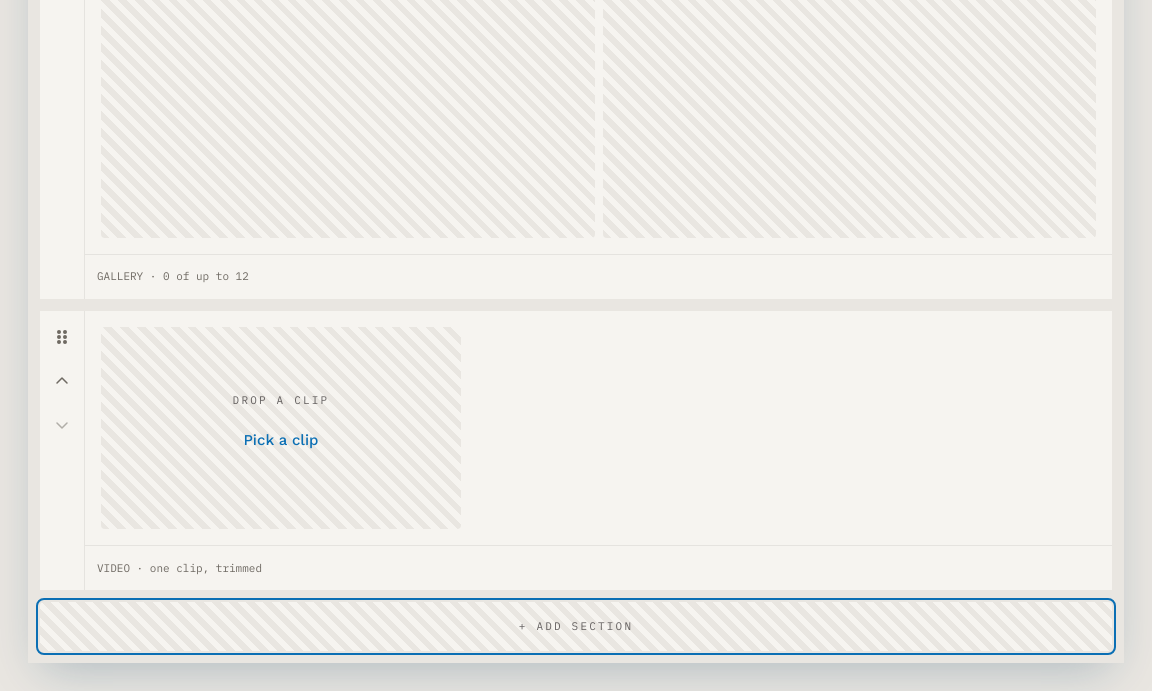
Test: SectionPicker › Enter on an option adds exactly one block of that type at the end and focuses it
The image size is (1152, 691).
(page scrolled)
Press Enter
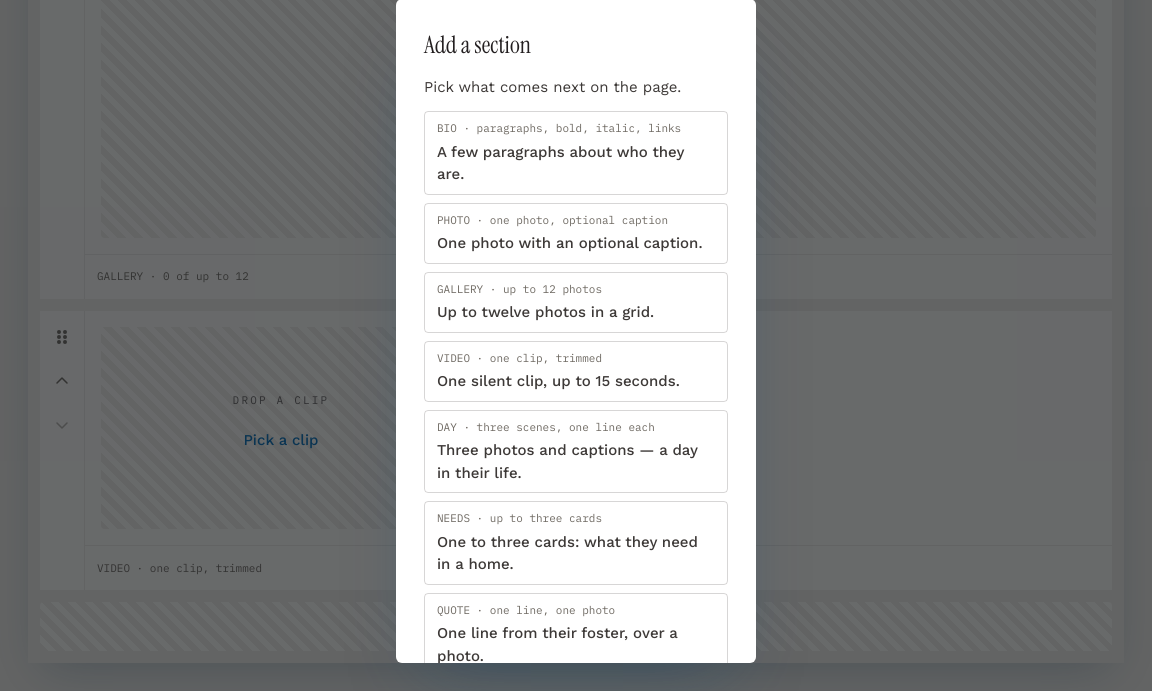
Click the button "QUOTE": (576, 635) [424,593,728,676]
(page scrolled)
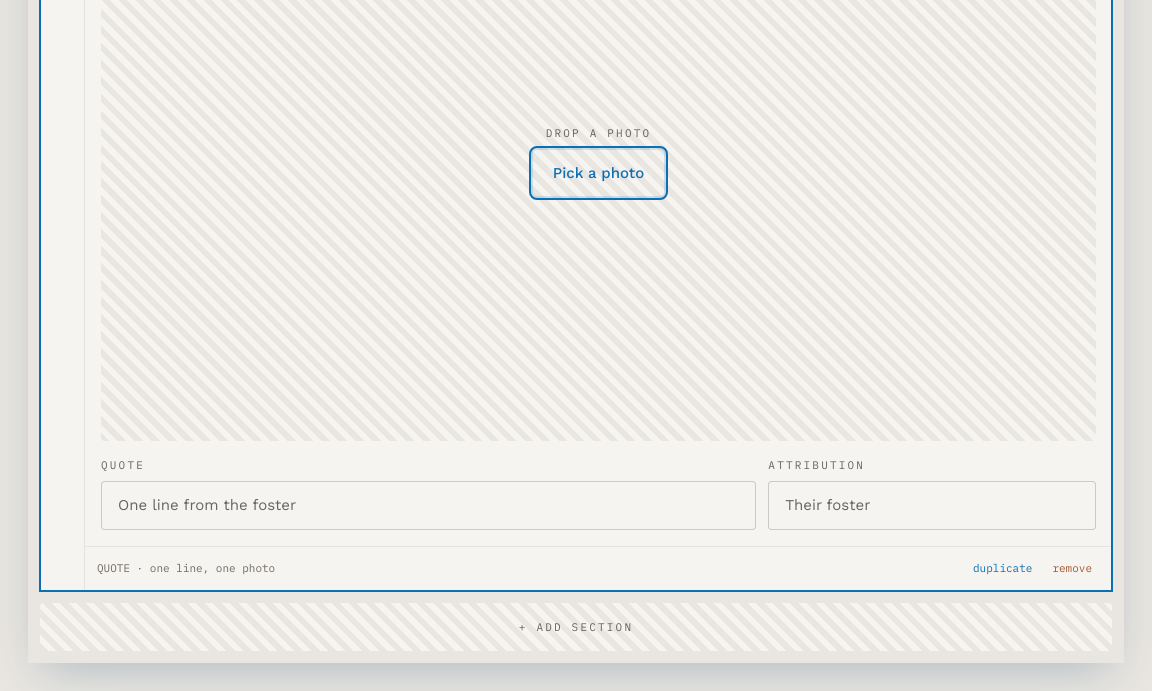
Expected: the dialog is gone
